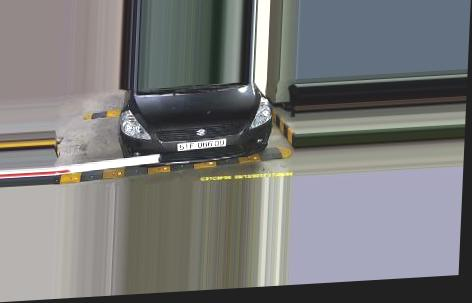License_Plate: (176, 137, 227, 152)
